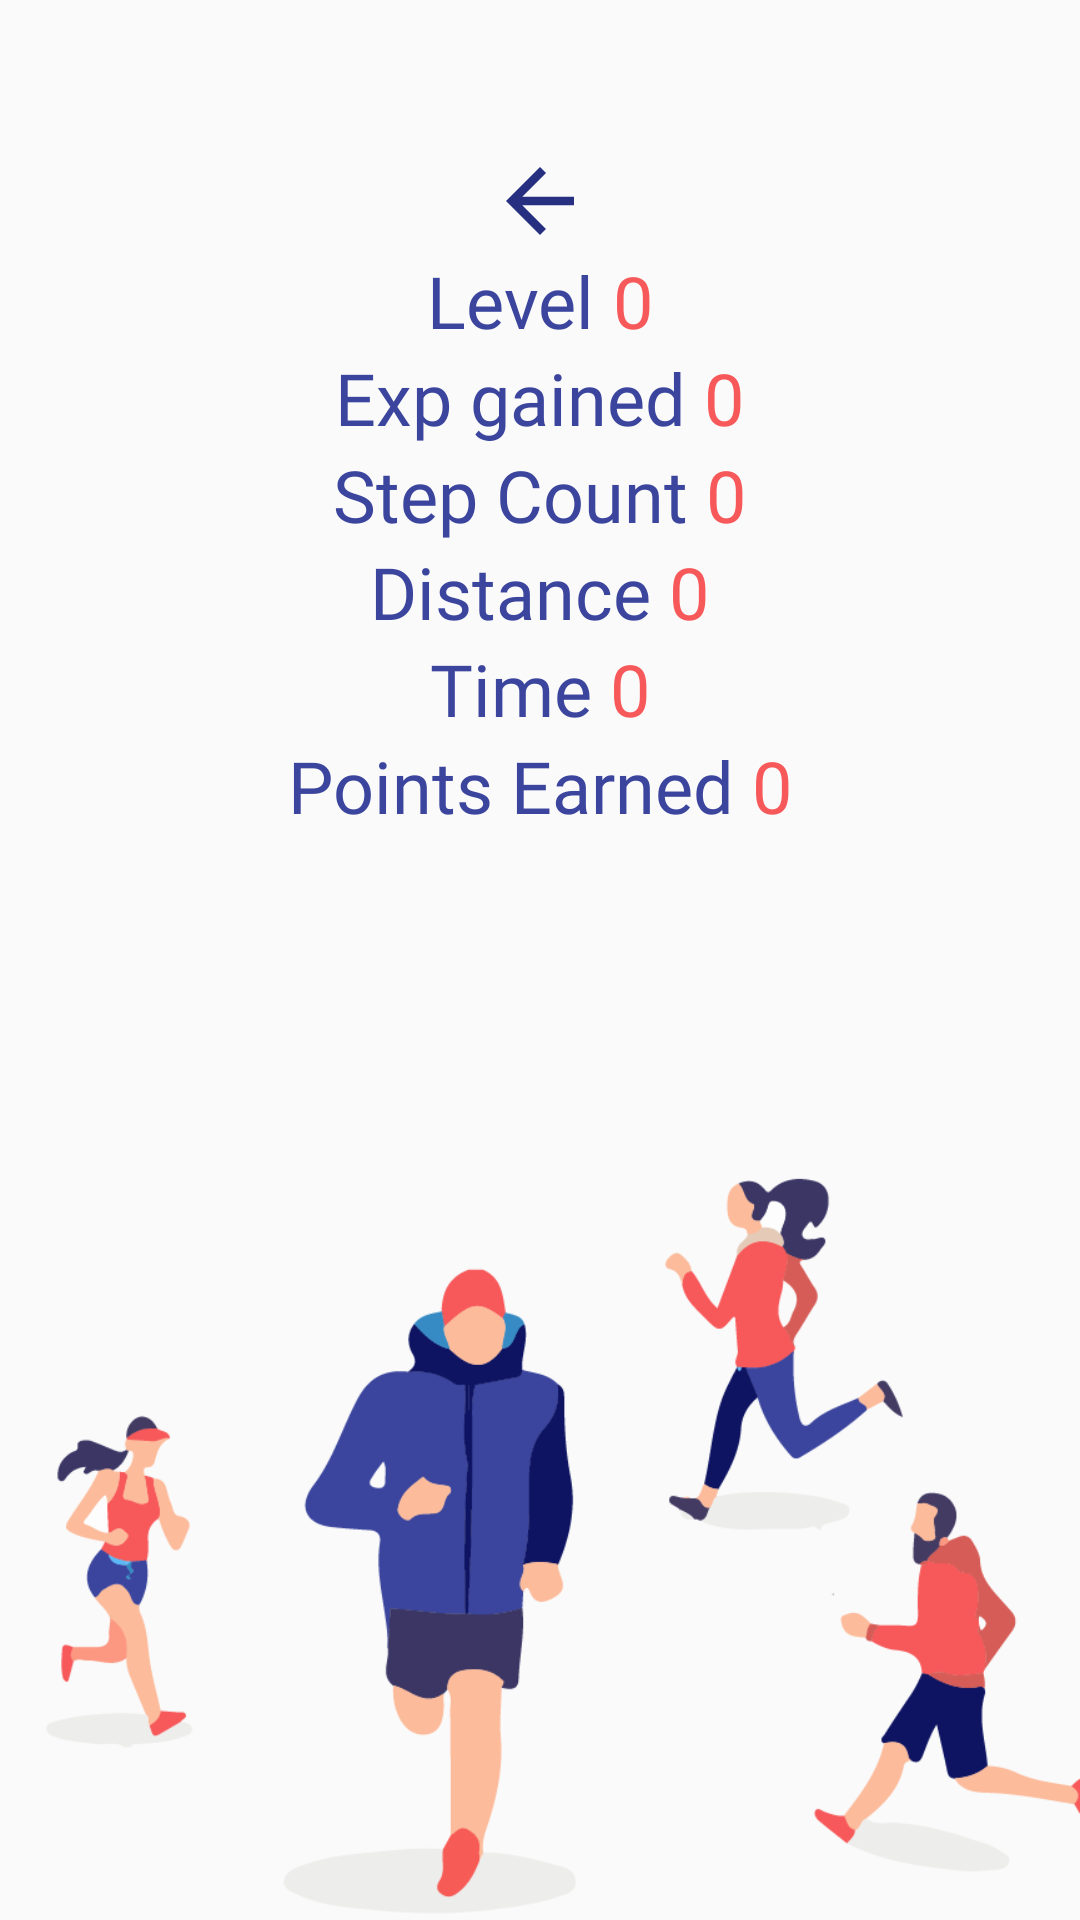

Named icons in this screenshot (1080px x 1920px) and their bounding boxes, (x1, y1, x2, y2):
arrow back: (506, 167, 574, 235)
